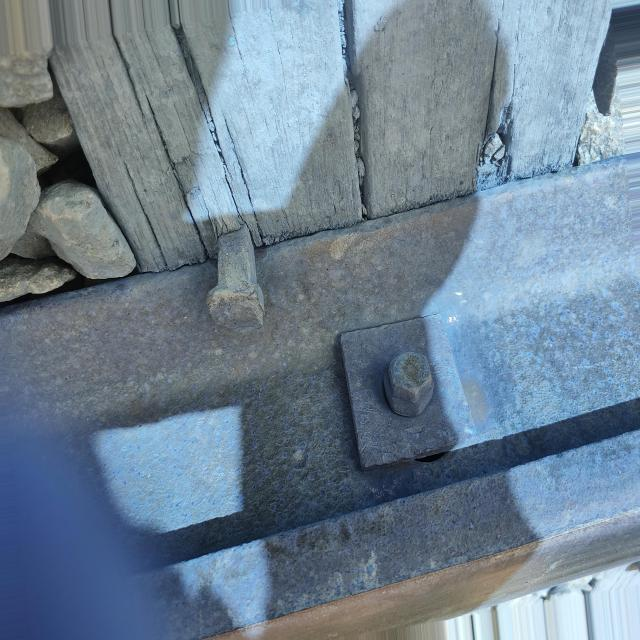Good Fasteners: (205, 216, 273, 348)
